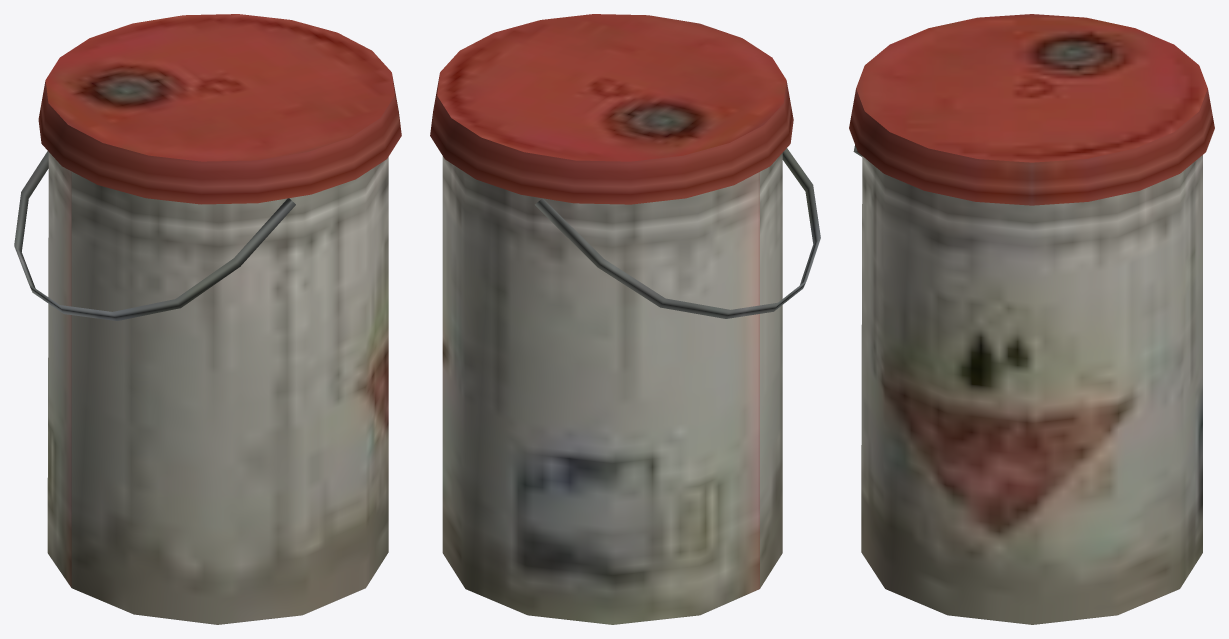
The model's file is plasticbucket001a.glb.
3 renders of one model, left to right at view 1: azimuth 30°, elevation 25°; view 2: azimuth 150°, elevation 25°; view 3: azimuth 270°, elevation 25°, orthographic.
Parts seen in each view (by area): view 1: 0_plastic_junk001a; view 2: 0_plastic_junk001a; view 3: 0_plastic_junk001a.
Boxes of the visible parts, left/top/right/bottom form: 0_plastic_junk001a: left=14, top=14, right=401, bottom=624; 0_plastic_junk001a: left=430, top=14, right=820, bottom=624; 0_plastic_junk001a: left=849, top=14, right=1214, bottom=624.
Bounding box in the file's own units: 0.396 × 0.5215 × 0.3718.
1 material, 1 textured.
